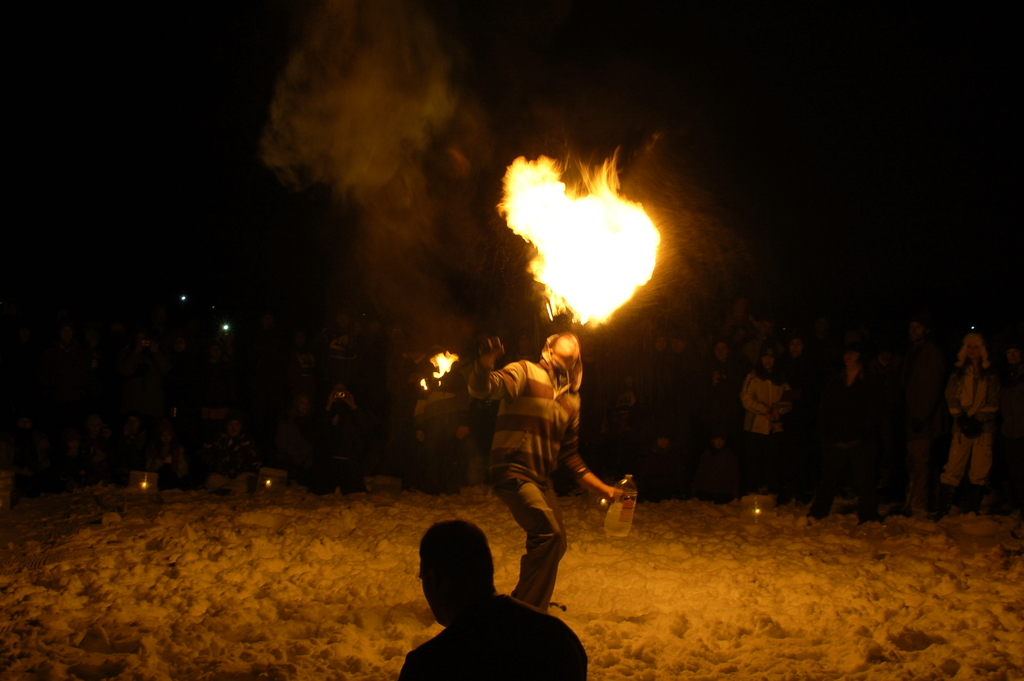Person: (0, 292, 1023, 493), (462, 329, 627, 611), (392, 519, 588, 681)
